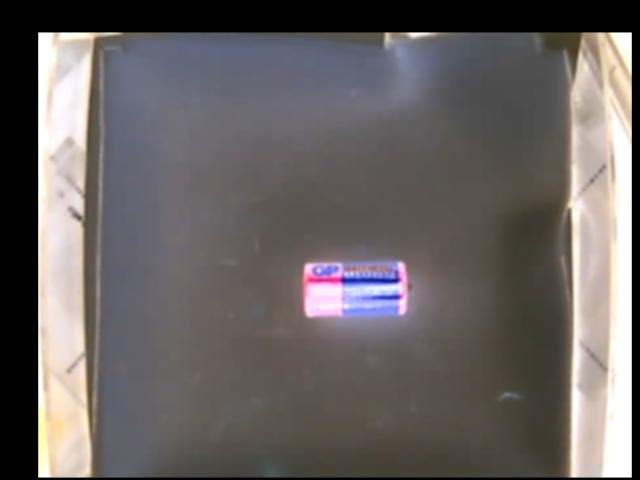Battery: (304, 260, 411, 318)
